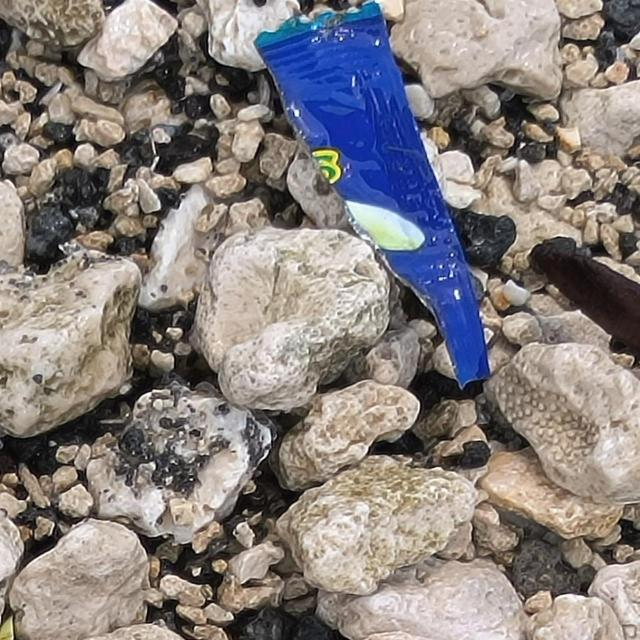plastic_waste: (252, 1, 495, 391)
